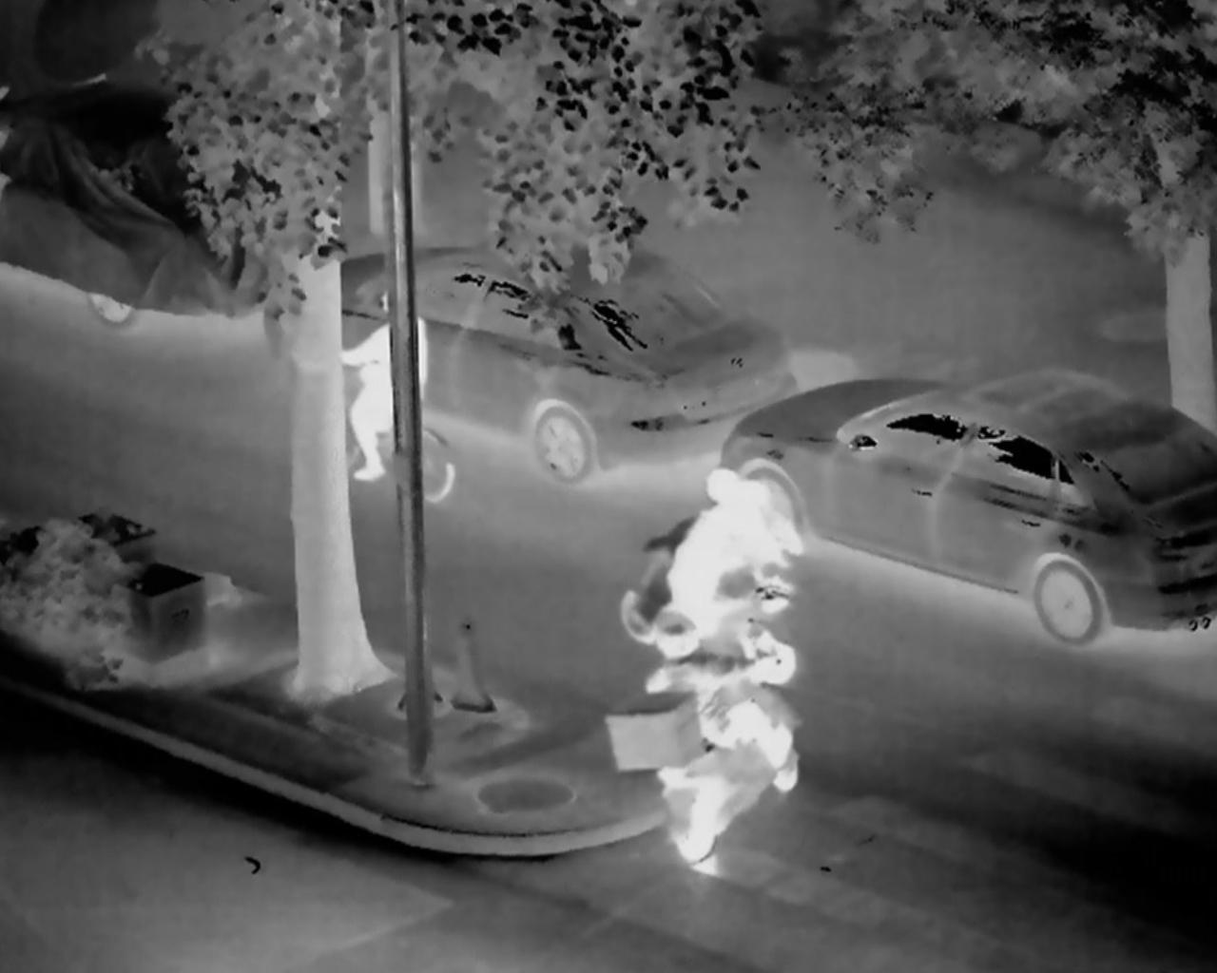person: (628, 600, 789, 813), (338, 299, 446, 492), (683, 470, 795, 641)
